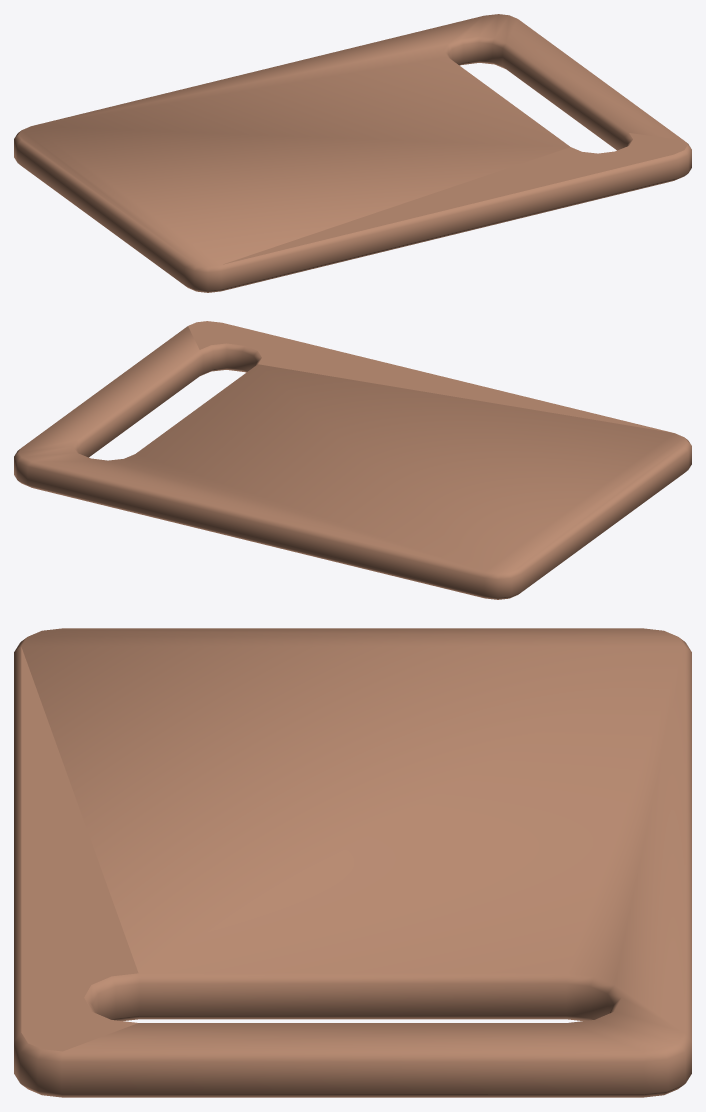
Rendered from cutting board.fbx.
3 renders of one model, top to bottom at view 1: azimuth 30°, elevation 25°; view 2: azimuth 150°, elevation 25°; view 3: azimuth 270°, elevation 25°, orthographic. The views are drawn at different scales.
Visible parts, largest first — view 1: cutting board; view 2: cutting board; view 3: cutting board.
Part boxes in pixels (box(x1,y1,x2,y2)): cutting board: box(14, 14, 691, 292); cutting board: box(14, 321, 691, 599); cutting board: box(14, 628, 691, 1097).
Size of the model in its own units: 1.44 by 0.072 by 0.96.
